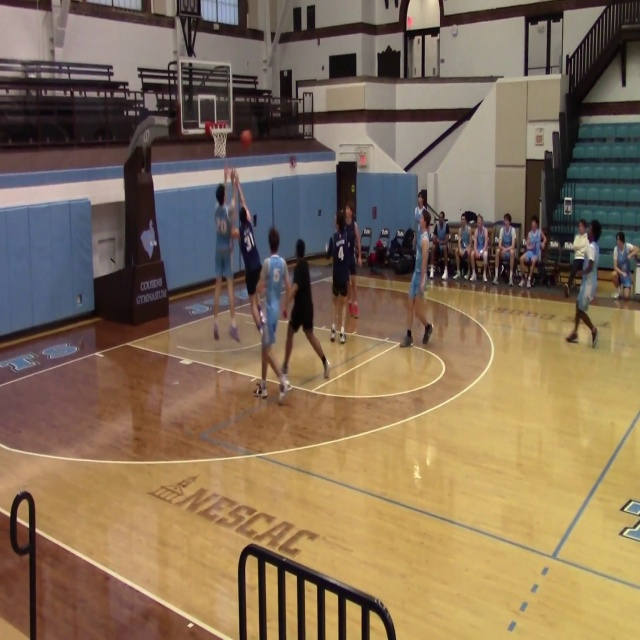Basketball: (240, 129, 252, 147), (349, 301, 359, 318), (205, 122, 213, 136), (289, 156, 297, 167), (231, 228, 239, 238)
